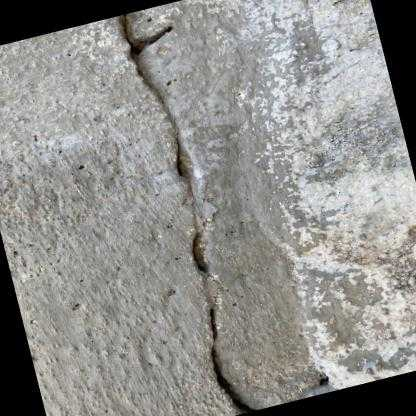crack: (120, 13, 260, 414)
